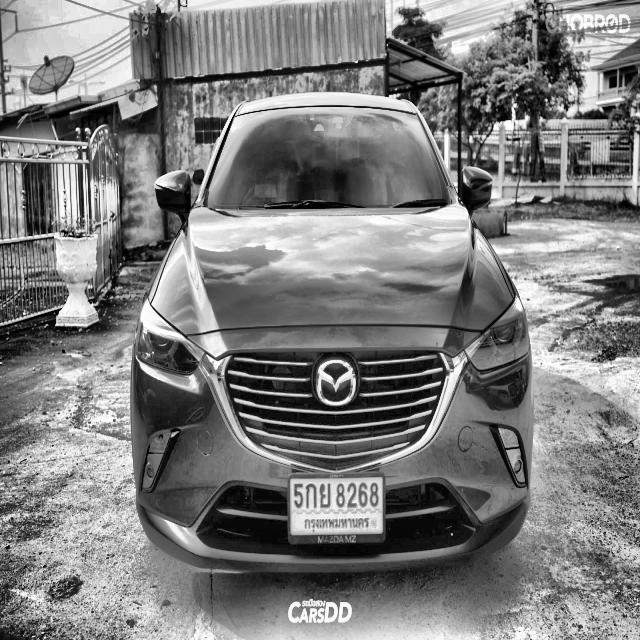license-plate: (286, 465, 386, 540)
